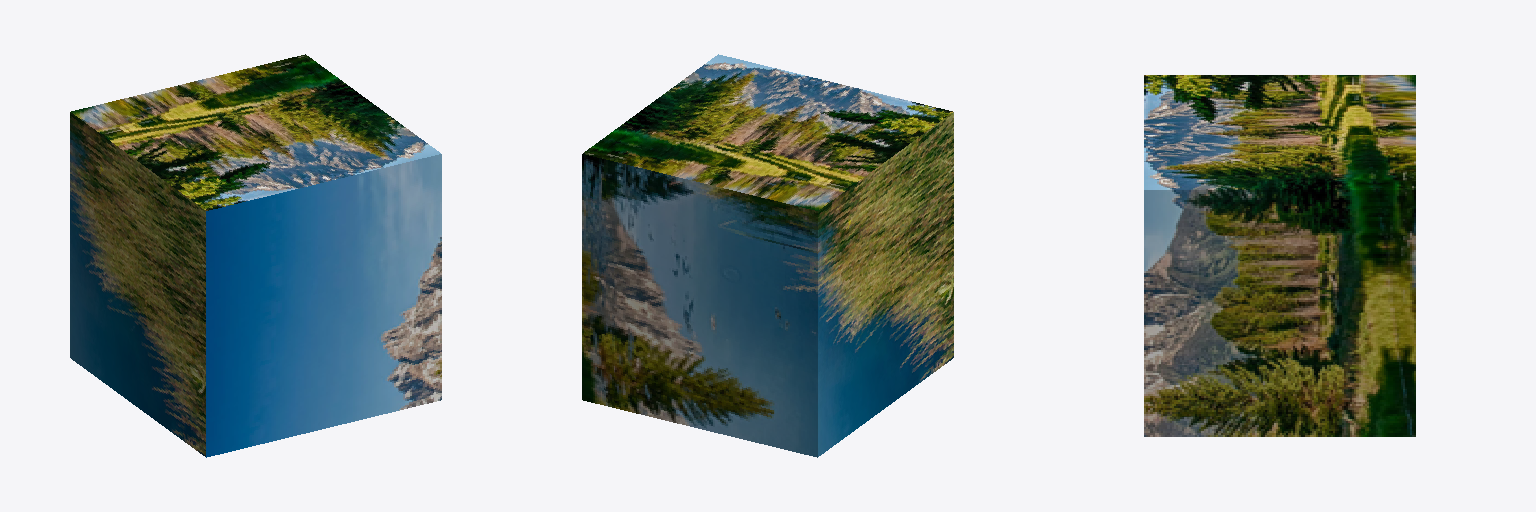
3 renders of one model, left to right at view 1: azimuth 30°, elevation 25°; view 2: azimuth 150°, elevation 25°; view 3: azimuth 270°, elevation 25°, orthographic.
Parts seen in each view (by area): view 1: Куб; view 2: Куб; view 3: Куб.
Part boxes in pixels (x1,y1,x2,y2): Куб: (70, 54, 441, 457); Куб: (582, 54, 953, 457); Куб: (1144, 75, 1415, 436).
Size of the model in its own units: 0.2967 by 0.2967 by 0.2967.
Materials: 1 (1 with a texture image).